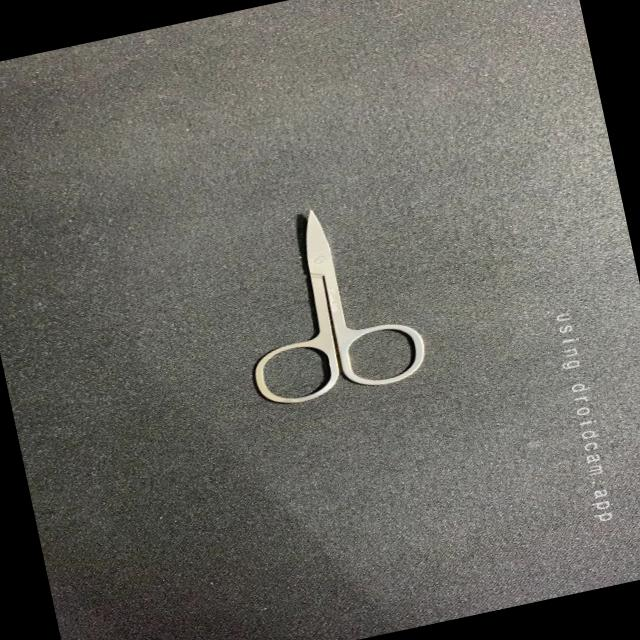scissor: (200, 188, 437, 418)
